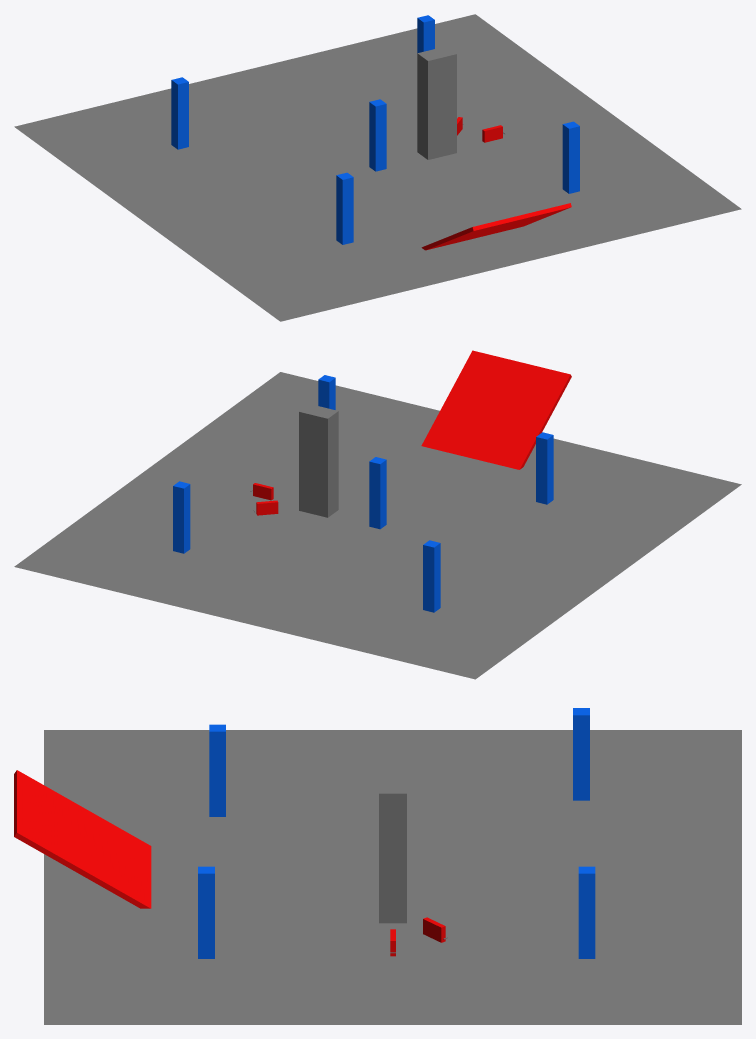
File: Environment.fbx
The picture shows the model from 3 angles, top to bottom: view 1: azimuth 30°, elevation 25°; view 2: azimuth 150°, elevation 25°; view 3: azimuth 270°, elevation 25°; orthographic projection. The views are drawn at different scales.
Parts seen in each view (by area): view 1: ground, Cube_1, Ramp, Cube__4_, Cube, Cube__3_, Cube__1_, Cube__2_; view 2: ground, Ramp, Cube_1, Cube, Cube__2_, Cube__1_, Cube__4_, Cube__3_; view 3: ground, Ramp, Cube_1, Cube__2_, Cube__1_, Cube__3_, Cube__4_.
Boxes of the visible parts, bbox=[...] form: ground: bbox=[14, 14, 741, 321]; Cube_1: bbox=[417, 46, 456, 159]; Ramp: bbox=[421, 203, 571, 250]; Cube__4_: bbox=[336, 172, 353, 244]; Cube: bbox=[369, 99, 386, 171]; Cube__3_: bbox=[562, 121, 579, 193]; Cube__1_: bbox=[171, 77, 188, 149]; Cube__2_: bbox=[417, 15, 434, 53]; ground: bbox=[14, 372, 741, 679]; Ramp: bbox=[421, 350, 571, 469]; Cube_1: bbox=[299, 404, 338, 517]; Cube: bbox=[369, 457, 386, 529]; Cube__2_: bbox=[173, 481, 190, 553]; Cube__1_: bbox=[423, 540, 440, 612]; Cube__4_: bbox=[536, 432, 553, 504]; Cube__3_: bbox=[318, 375, 335, 409]; ground: bbox=[44, 730, 741, 1024]; Ramp: bbox=[14, 770, 151, 908]; Cube_1: bbox=[379, 775, 406, 923]; Cube__2_: bbox=[578, 866, 595, 958]; Cube__1_: bbox=[573, 708, 589, 800]; Cube__3_: bbox=[198, 866, 214, 958]; Cube__4_: bbox=[209, 724, 225, 816].
Size of the model in its own units: 12470 by 2682 by 13009.
